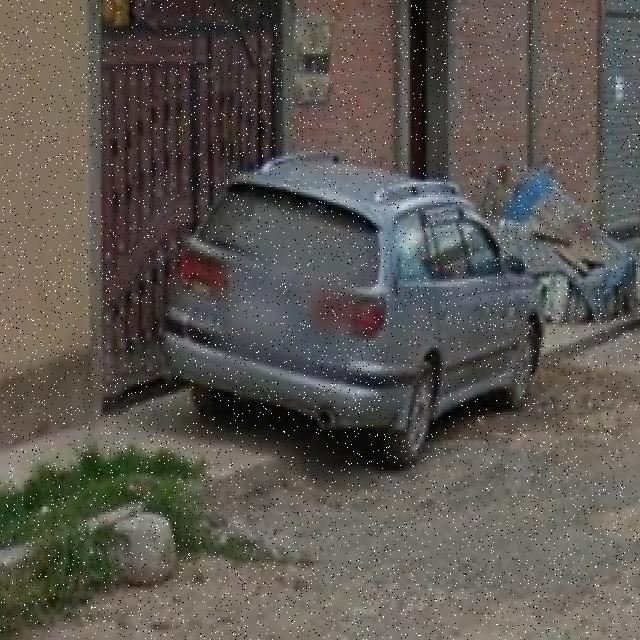cars: (181, 157, 536, 461)
